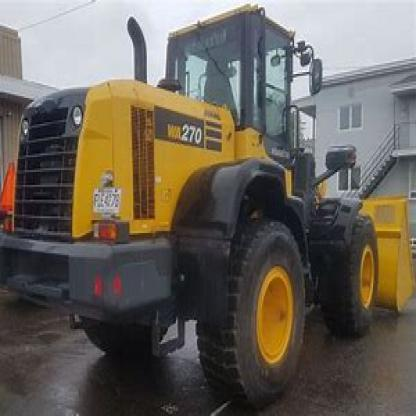bull_dozer/loader/grader: (16, 6, 414, 410)
